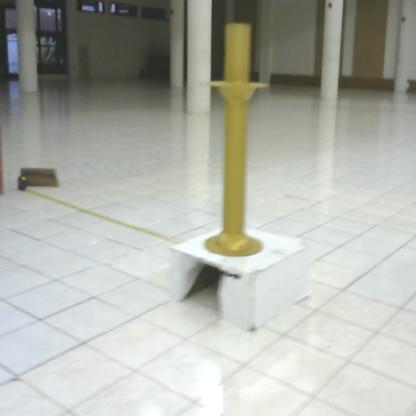pole: (203, 18, 277, 265)
